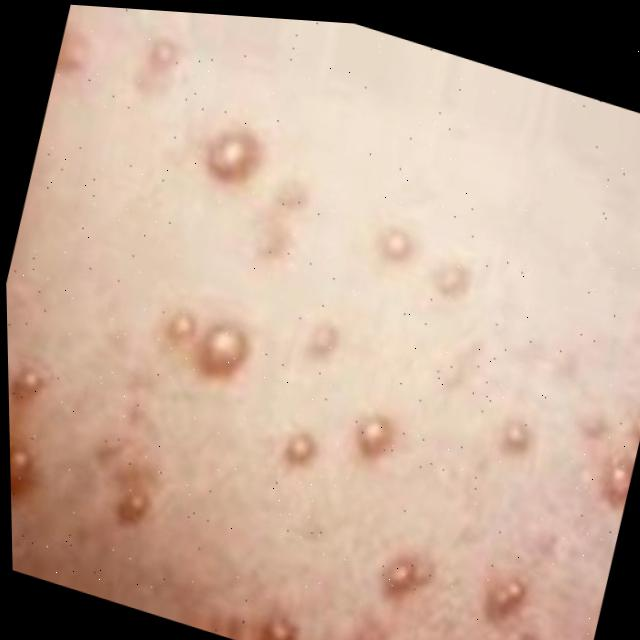Shingles: (2, 83, 640, 640)
